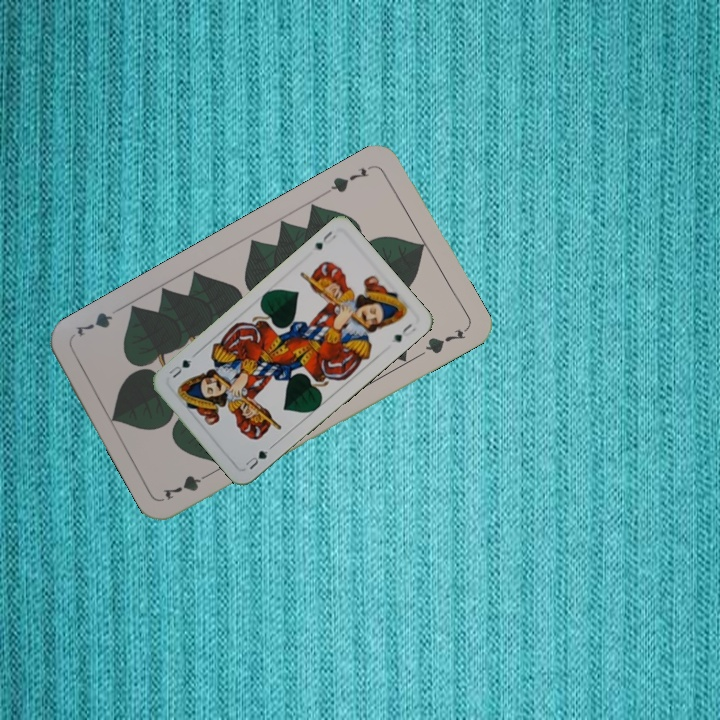G7: (159, 467, 216, 503), (322, 161, 376, 196)
GU: (241, 446, 271, 472), (310, 227, 339, 252)
